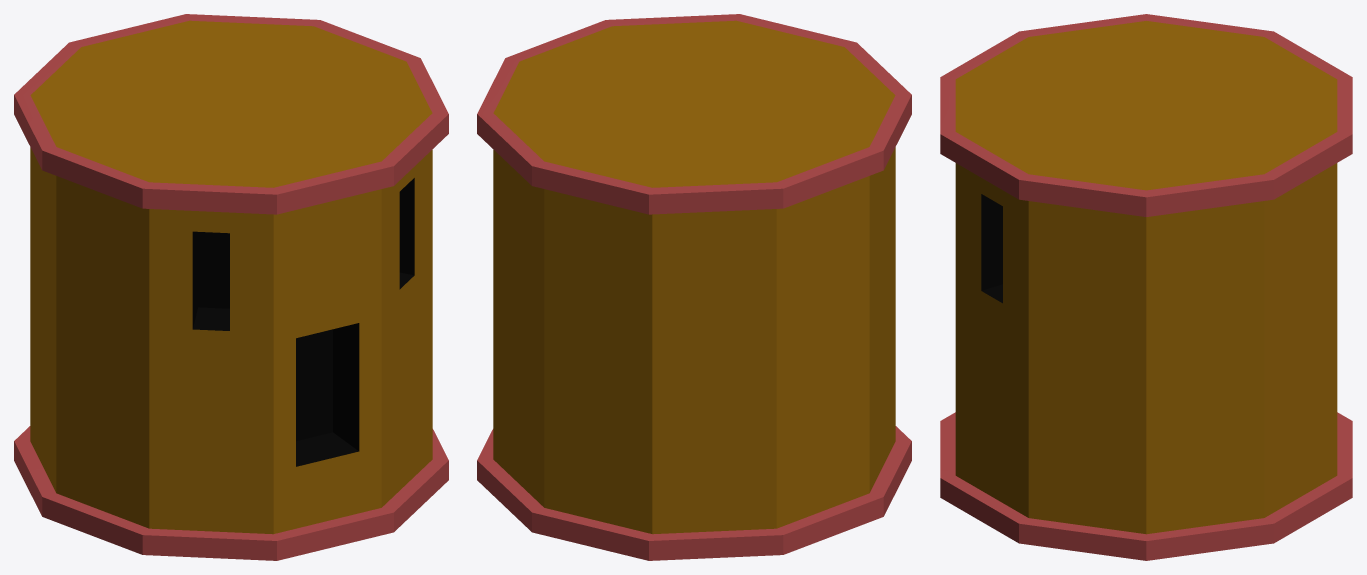
The model's file is gBSuckingTikiHead_01.fbx.
3 views of the same model, side by side, from view 1: azimuth 30°, elevation 25°; view 2: azimuth 150°, elevation 25°; view 3: azimuth 270°, elevation 25° (orthographic).
Visible parts, largest first — view 1: suckingTikiHead_01; view 2: suckingTikiHead_01; view 3: suckingTikiHead_01.
Part boxes in pixels (x1,y1,x2,y2): suckingTikiHead_01: (14, 14, 448, 560); suckingTikiHead_01: (477, 14, 911, 560); suckingTikiHead_01: (940, 14, 1352, 560).
Size of the model in its own units: 324 by 300 by 308.
